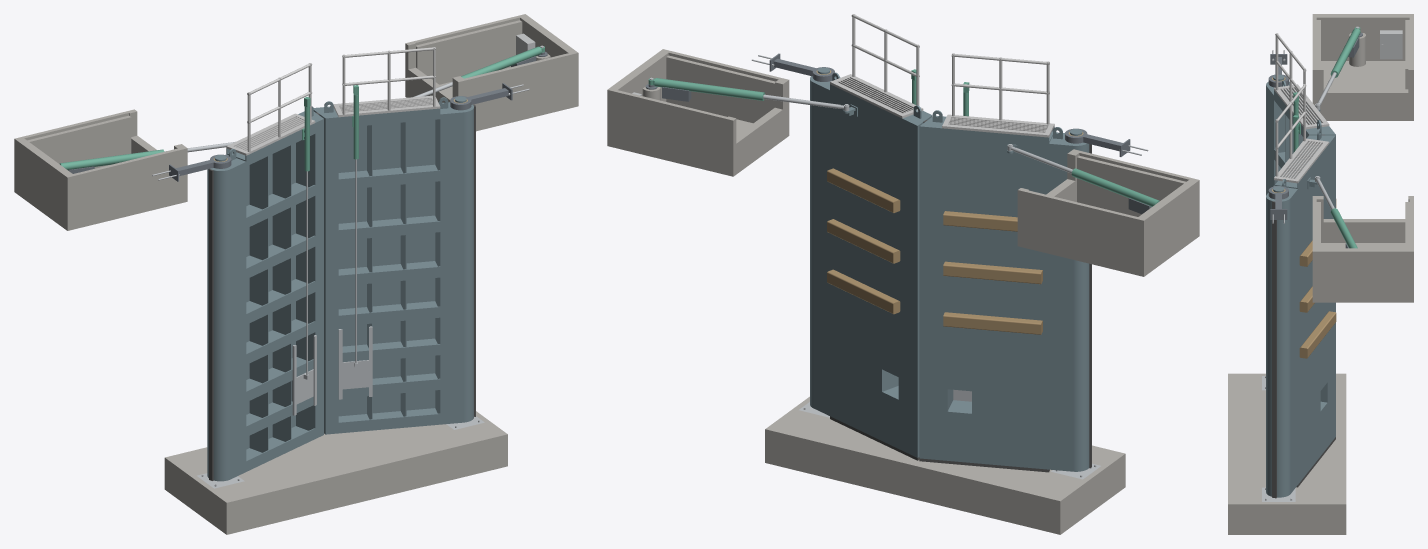
The model's file is step_06.glb.
3 views of the same model, side by side, from view 1: azimuth 30°, elevation 25°; view 2: azimuth 150°, elevation 25°; view 3: azimuth 270°, elevation 25° (orthographic). The views are drawn at different scales.
Parts seen in each view (by area): view 1: part__cill, part__right skin plate, part__left inspection chamber, part__right inspection chamber, part__right heel post, part__left heel post, part__left mitre post, part__right mitre post, part__left stiffener 2, part__left stiffener 1, part__left skin plate, part__right girder 1 (+25 smaller); view 2: part__left skin plate, part__right skin plate, part__cill, part__right inspection chamber, part__left inspection chamber, part__left heel post, part__left mitre post, part__right heel post, part__right mitre post, part__left walkway grating, part__right walkway grating, part__left oak fender 1 (+9 smaller); view 3: part__cill, part__left inspection chamber, part__right inspection chamber, part__right heel post, part__right skin plate, part__right mitre post, part__right heel seal, part__left heel post, part__right walkway grating, part__left walkway grating, part__right handrail, part__left handrail (+11 smaller).
Boxes of the visible parts, <box> form: part__cill: <box>164,411,507,534</box>; part__right skin plate: <box>338,119,435,416</box>; part__left inspection chamber: <box>14,109,187,230</box>; part__right inspection chamber: <box>405,14,578,131</box>; part__right heel post: <box>435,96,473,424</box>; part__left heel post: <box>207,154,246,481</box>; part__left mitre post: <box>296,111,323,438</box>; part__right mitre post: <box>313,106,338,434</box>; part__left stiffener 2: <box>272,145,291,441</box>; part__left stiffener 1: <box>249,156,268,452</box>; part__left skin plate: <box>226,143,295,449</box>; part__right girder 1: <box>338,408,440,433</box>; part__left skin plate: <box>942,128,1049,469</box>; part__right skin plate: <box>830,84,902,450</box>; part__cill: <box>765,396,1125,534</box>; part__right inspection chamber: <box>607,49,789,176</box>; part__left inspection chamber: <box>1017,149,1199,276</box>; part__left heel post: <box>1049,129,1089,471</box>; part__left mitre post: <box>919,116,946,460</box>; part__right heel post: <box>810,67,840,415</box>; part__right mitre post: <box>902,111,932,457</box>; part__left walkway grating: <box>942,114,1054,137</box>; part__right walkway grating: <box>830,74,923,118</box>; part__left oak fender 1: <box>943,312,1042,334</box>; part__cill: <box>1228,373,1346,534</box>; part__left inspection chamber: <box>1312,14,1413,120</box>; part__right inspection chamber: <box>1312,196,1413,302</box>; part__right heel post: <box>1266,185,1297,497</box>; part__right skin plate: <box>1297,144,1329,484</box>; part__right mitre post: <box>1307,135,1335,444</box>; part__right heel seal: <box>1272,201,1276,498</box>; part__left heel post: <box>1266,74,1295,195</box>; part__right walkway grating: <box>1274,138,1329,183</box>; part__left walkway grating: <box>1274,84,1329,129</box>; part__right handrail: <box>1275,84,1306,176</box>; part__left handrail: <box>1275,33,1306,101</box>.
Bounding box in the file's own units: 9998 × 7700 × 3300.
